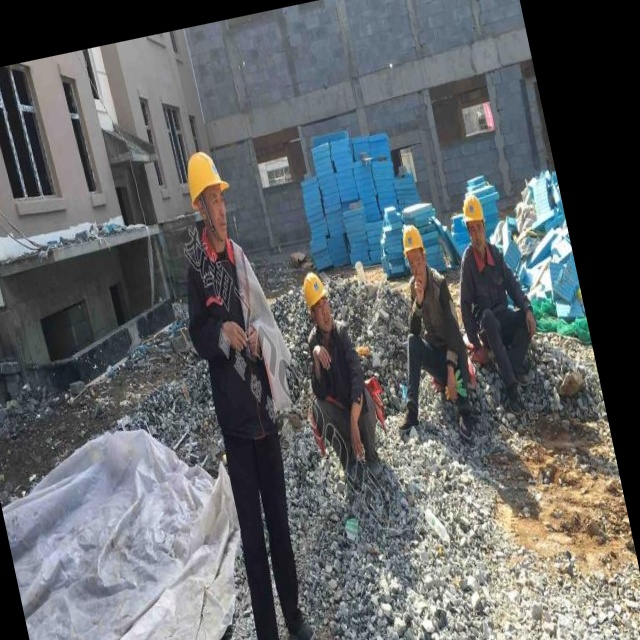Con_Casco: (182, 147, 240, 245), (299, 269, 334, 332)
